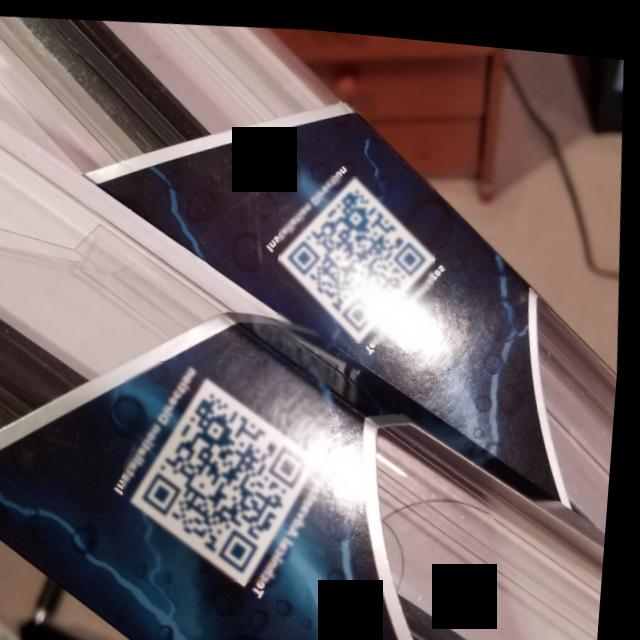QR_CODE: (118, 346, 347, 589), (272, 159, 448, 346)
